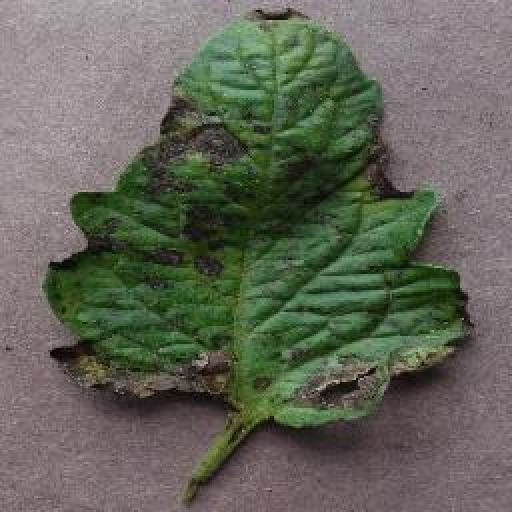disease_tomato: (43, 5, 470, 435)
